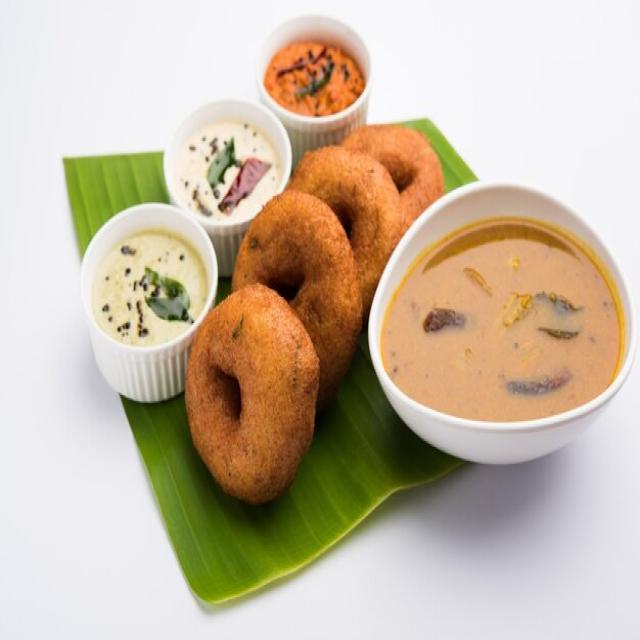MEDU VADA: (182, 123, 446, 507)
